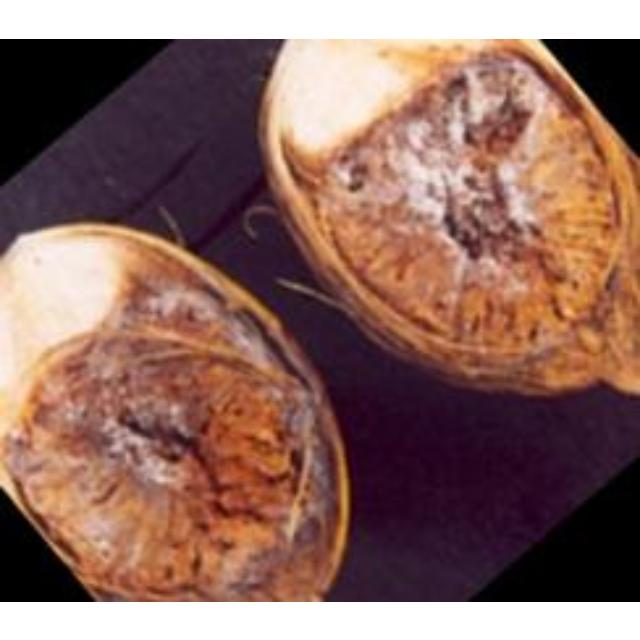damaged: (254, 38, 637, 397), (0, 222, 351, 599)
